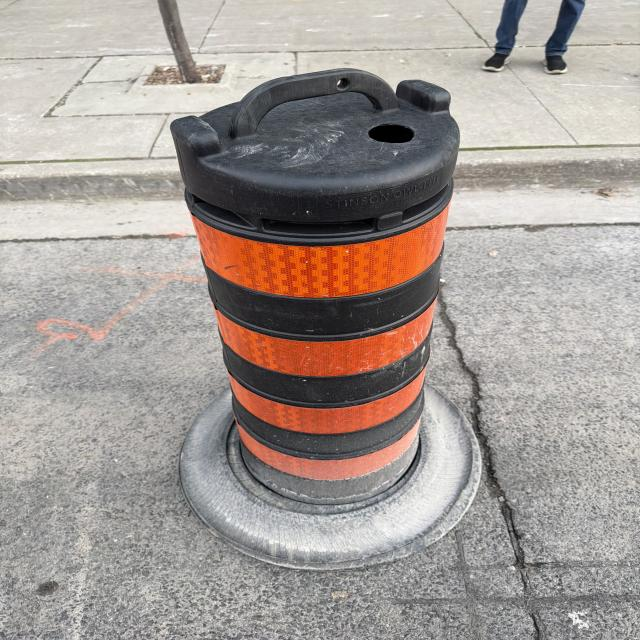Teraffic Barrel: (171, 69, 480, 568)
